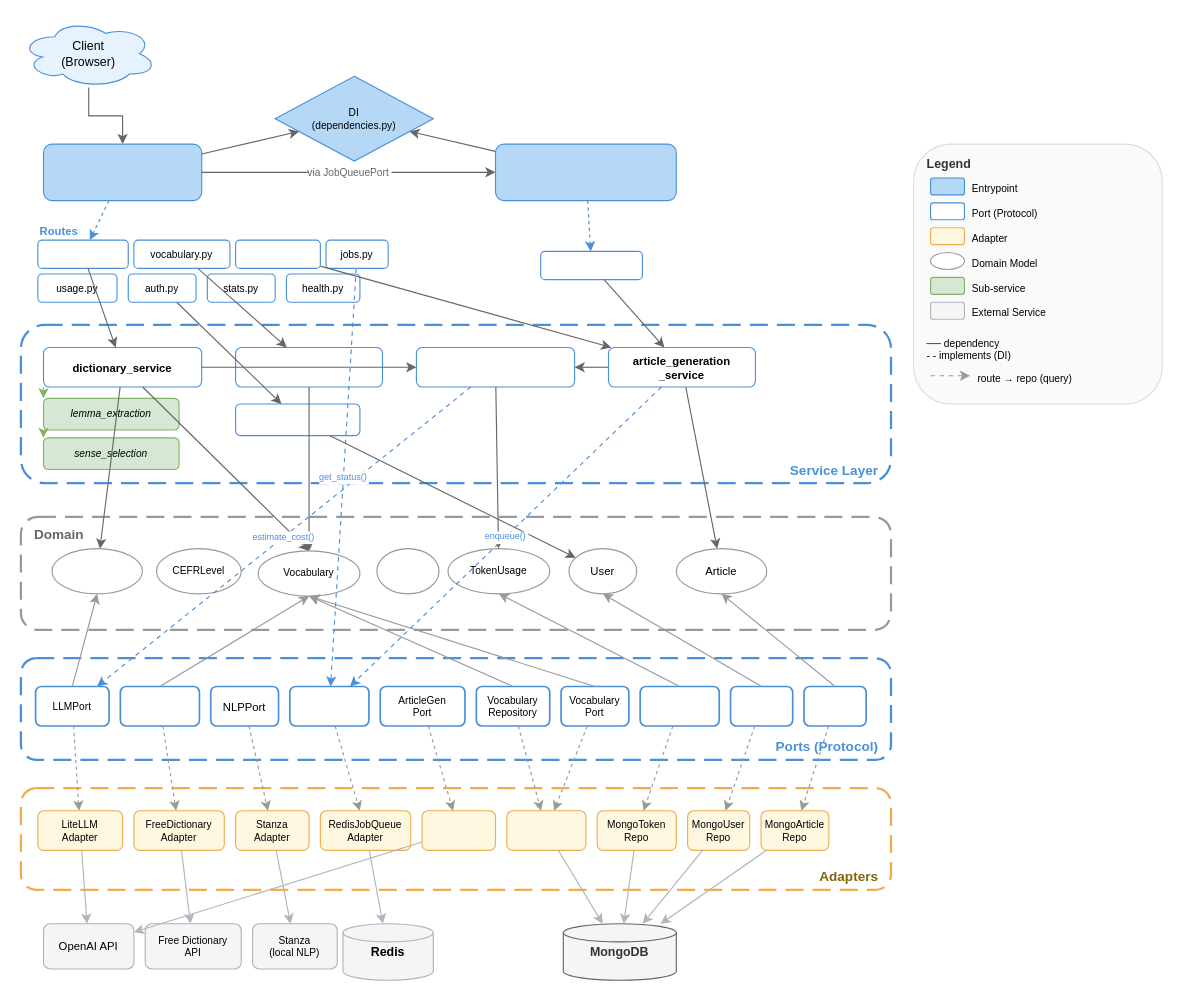
This 1182x1000 diagram has some shape labels left out. Each missing label, with the centre of its shape:
"API (FastAPI :8001)" belongs at (x=122, y=172).
"Article Repository" belongs at (x=834, y=705).
"articles.py" belongs at (x=277, y=253).
"auth_service" belongs at (x=297, y=419).
"CrewAI Adapter" belongs at (x=458, y=830).
"Dictionary Port" belongs at (x=159, y=705).
"dictionary.py" belongs at (x=82, y=253).
"JobContext" belongs at (x=407, y=570).
"JobQueue Port" belongs at (x=328, y=705).
"LLMCall Result" belongs at (x=96, y=570).
"MongoVocab Repo" belongs at (x=546, y=830).
"processor.py" belongs at (x=591, y=265).
"token_usage_service" belongs at (x=495, y=366).
"TokenUsage Repository" belongs at (x=679, y=705).
"User Repository" belongs at (x=761, y=705).
"vocabulary_service" belongs at (x=308, y=366).
"Worker" belongs at (x=585, y=172).
